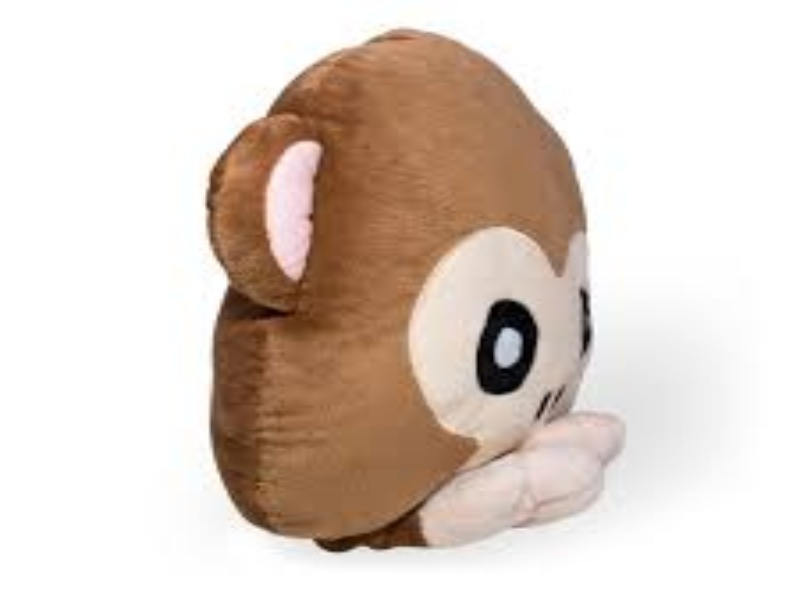monkey: (162, 21, 671, 567)
